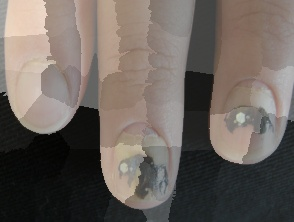SJS-TEN: (83, 101, 211, 222), (210, 63, 290, 172)
